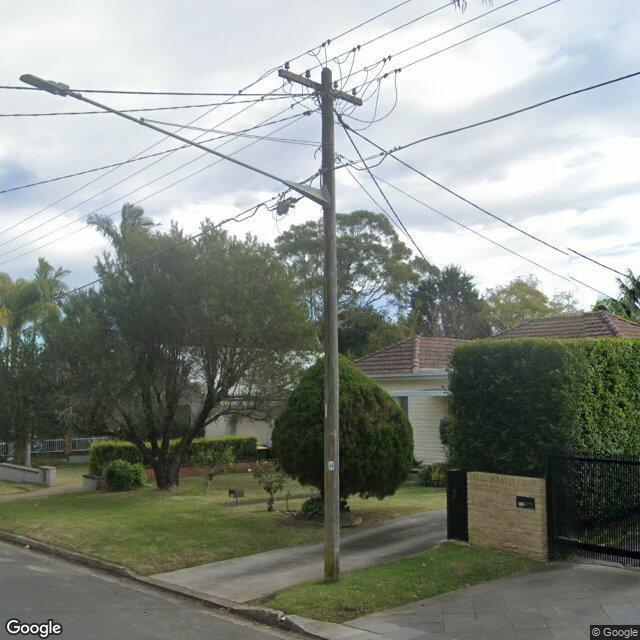crossarm: (277, 68, 364, 107)
streetlight: (21, 72, 330, 206)
timber-pole: (321, 67, 340, 583)
